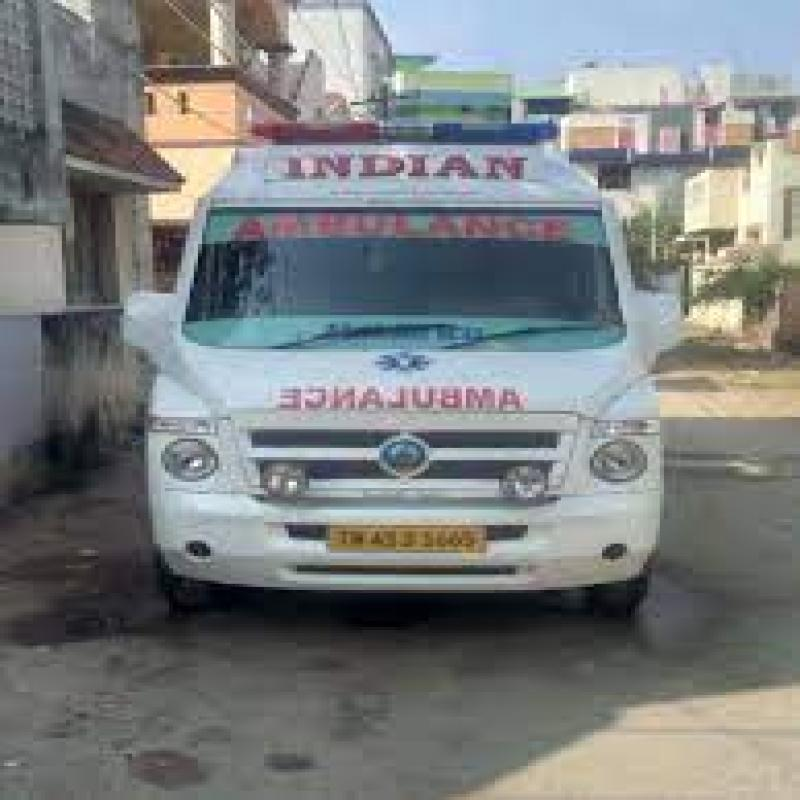AmbulanceSiren: (248, 89, 550, 163)
ambulance: (105, 74, 706, 644)
